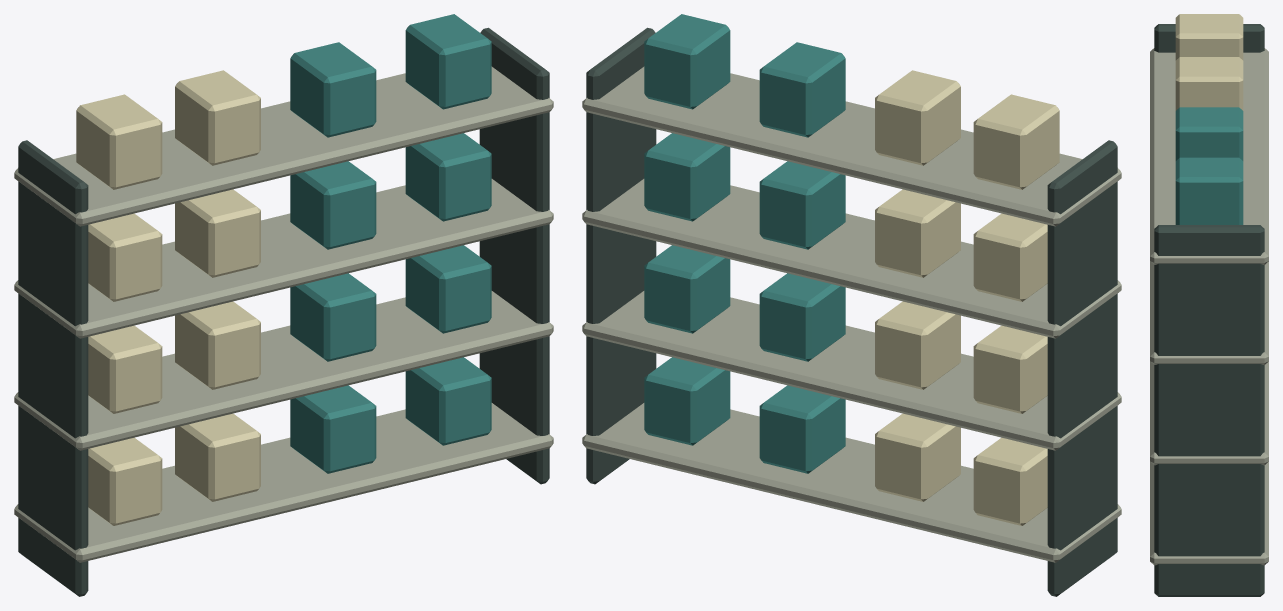
File: shelf.glb
3 views of the same model, side by side, from view 1: azimuth 30°, elevation 25°; view 2: azimuth 150°, elevation 25°; view 3: azimuth 270°, elevation 25° (orthographic). The views are drawn at different scales.
Visible parts, largest first — view 1: shelf.001; view 2: shelf.001; view 3: shelf.001.
Part boxes in pixels (x1=…): shelf.001: x1=14, y1=14, x2=553, y2=596; shelf.001: x1=582, y1=14, x2=1121, y2=596; shelf.001: x1=1150, y1=14, x2=1268, y2=596.
Bounding box in the file's own units: 2.9 × 2.6 × 0.7.
